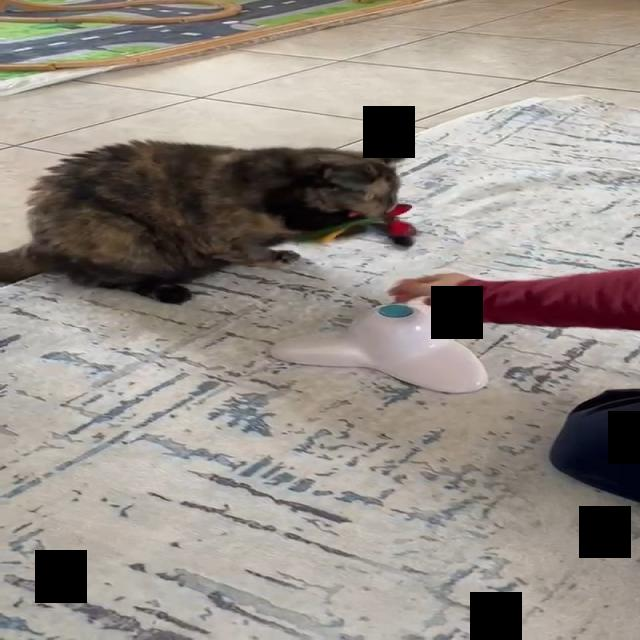authorized: (0, 137, 413, 304)
